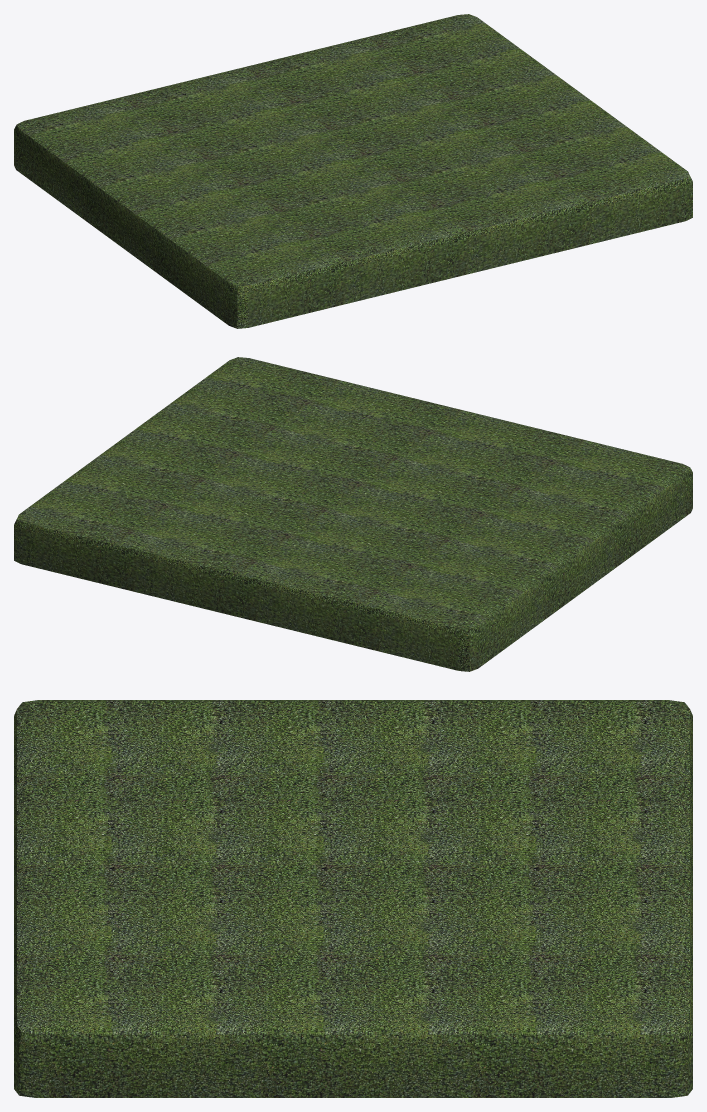
Rendered from Bush_01.FBX.
3 views of the same model, one above another, from view 1: azimuth 30°, elevation 25°; view 2: azimuth 150°, elevation 25°; view 3: azimuth 270°, elevation 25° (orthographic). The views are drawn at different scales.
Parts seen in each view (by area): view 1: Bush_01; view 2: Bush_01; view 3: Bush_01.
Boxes of the visible parts, box(x1,y1,x2,y2) form: Bush_01: box(14, 14, 692, 328); Bush_01: box(14, 357, 692, 671); Bush_01: box(14, 700, 692, 1097).
Bounding box in the file's own units: 2812 × 251 × 2392.
